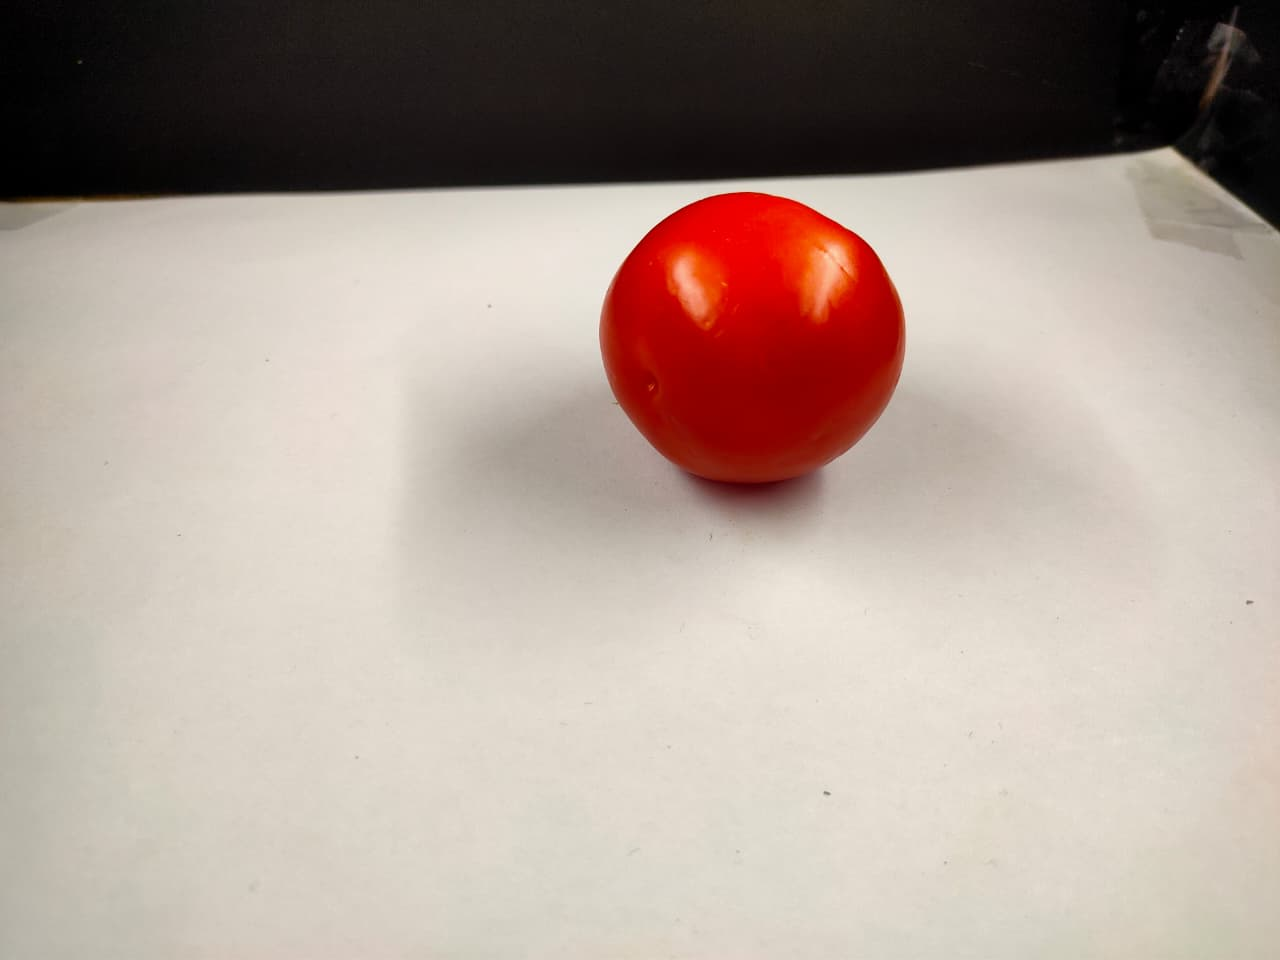ripe: (598, 171, 914, 499)
